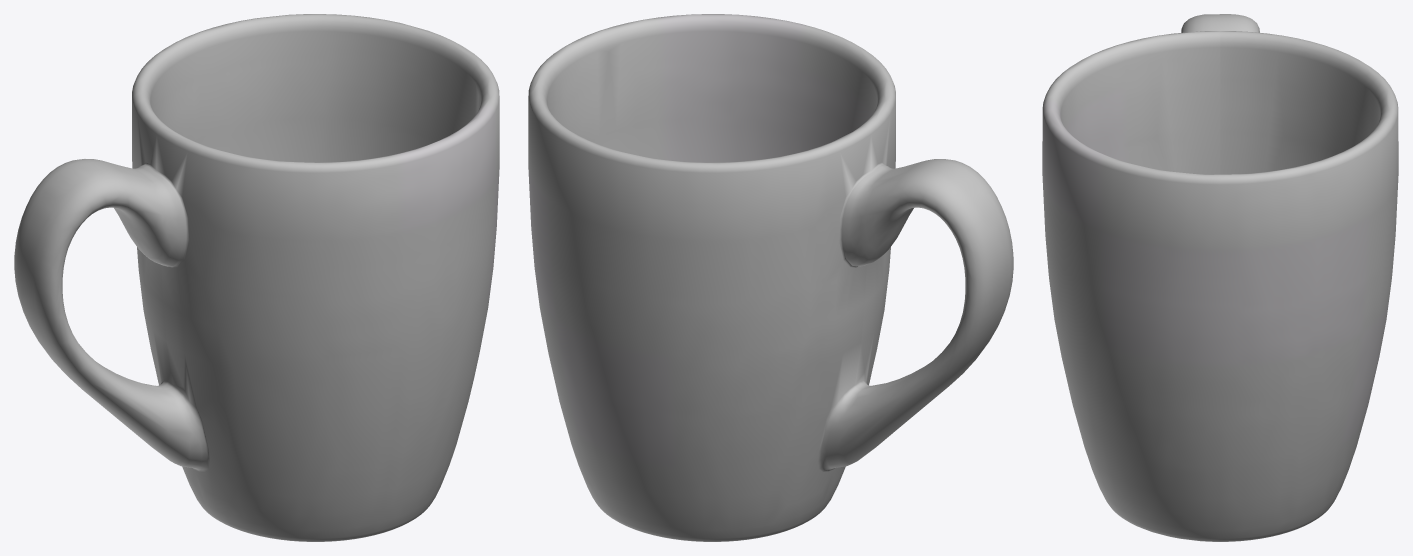
The model's file is cup.glb.
3 renders of one model, left to right at view 1: azimuth 30°, elevation 25°; view 2: azimuth 150°, elevation 25°; view 3: azimuth 270°, elevation 25°, orthographic. The views are drawn at different scales.
Visible parts, largest first — view 1: cup; view 2: cup; view 3: cup.
Part boxes in pixels (bbox=[...]): cup: bbox=[14, 14, 499, 541]; cup: bbox=[528, 14, 1013, 541]; cup: bbox=[1042, 14, 1398, 541].
Bounding box in the file's own units: 0.1187 × 0.1019 × 0.0841.
Materials: 1 (1 with a texture image).
